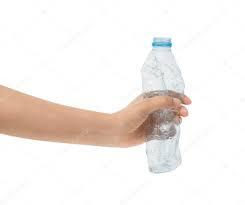BIODEGRADABLE: (134, 32, 189, 183)
